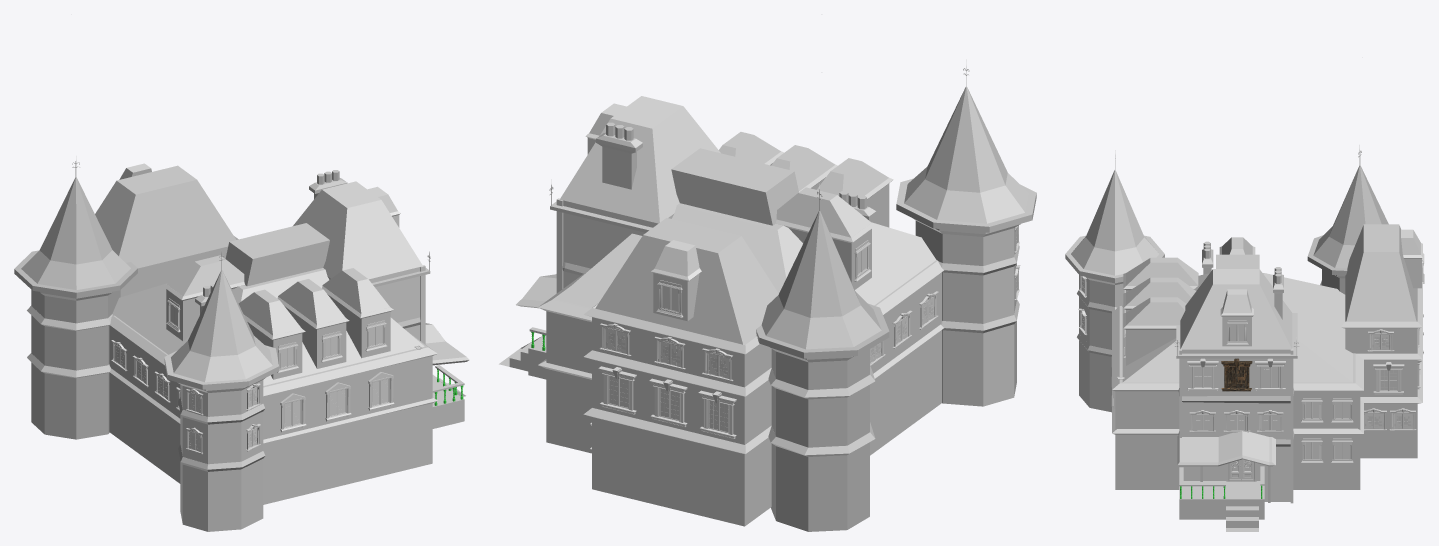
The model's file is housex3.fbx.
3 views of the same model, side by side, from view 1: azimuth 30°, elevation 25°; view 2: azimuth 150°, elevation 25°; view 3: azimuth 270°, elevation 25° (orthographic). The views are drawn at different scales.
Parts seen in each view (by area): view 1: Plane.003, Object_9.002, Plane.006, Plane, Cube.004, Cube.003, Cube.006, Cube.005, Plane.002, Cube, Classic Window vol8.014, Plane.022 (+11 smaller); view 2: Plane.003, Plane.006, Object_9.002, Plane, Cube.006, Plane.018, Cube.005, Cube.007, Plane.008, Plane.016, Plane.007, Cube.004 (+17 smaller); view 3: Plane.003, Plane, Plane.006, Object_9.002, Cube, Plane.002, Plane.022, Cube.003, Plane.015, Cube.005, Cube.004, Plane.005 (+22 smaller).
Part boxes in pixels (bbox=[...]): Plane.003: bbox=[109, 223, 432, 531]; Object_9.002: bbox=[14, 156, 137, 439]; Plane.006: bbox=[95, 165, 235, 296]; Plane: bbox=[293, 181, 425, 344]; Cube.004: bbox=[278, 279, 346, 368]; Cube.003: bbox=[322, 268, 390, 358]; Cube.006: bbox=[166, 255, 244, 341]; Cube.005: bbox=[238, 289, 302, 379]; Plane.002: bbox=[263, 317, 437, 396]; Cube: bbox=[432, 375, 465, 428]; Classic Window vol8.014: bbox=[111, 340, 180, 410]; Plane.022: bbox=[425, 323, 469, 365]; Plane.003: bbox=[546, 86, 1036, 455]; Plane.006: bbox=[592, 218, 778, 526]; Object_9.002: bbox=[756, 184, 889, 531]; Plane: bbox=[556, 96, 720, 293]; Cube.006: bbox=[776, 187, 871, 289]; Plane.018: bbox=[651, 240, 701, 321]; Cube.005: bbox=[817, 158, 889, 227]; Cube.007: bbox=[596, 122, 642, 189]; Plane.008: bbox=[583, 408, 771, 453]; Plane.016: bbox=[584, 350, 771, 396]; Plane.007: bbox=[584, 304, 759, 354]; Cube.004: bbox=[771, 145, 835, 190]; Plane.003: bbox=[1065, 170, 1360, 489]; Plane: bbox=[1179, 269, 1293, 503]; Plane.006: bbox=[1345, 224, 1417, 458]; Object_9.002: bbox=[1307, 145, 1388, 294]; Cube: bbox=[1179, 481, 1264, 531]; Plane.002: bbox=[1112, 306, 1363, 403]; Plane.022: bbox=[1177, 430, 1275, 466]; Cube.003: bbox=[1126, 297, 1186, 365]; Plane.015: bbox=[1220, 289, 1253, 346]; Cube.005: bbox=[1126, 257, 1198, 292]; Cube.004: bbox=[1126, 277, 1196, 312]; Plane.005: bbox=[1112, 390, 1363, 446].
Size of the model in its own units: 8296 by 9606 by 7621.
